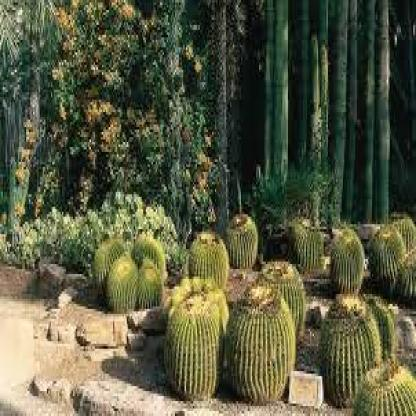Cactus: (229, 292, 294, 400), (322, 299, 382, 401), (164, 298, 221, 399), (356, 359, 416, 416), (368, 222, 405, 291), (330, 226, 366, 292), (189, 232, 226, 290), (226, 212, 258, 272), (104, 256, 138, 310), (294, 219, 324, 274), (136, 268, 164, 312)
